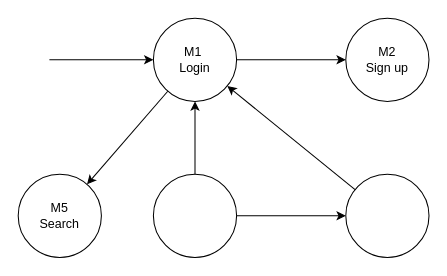
The diagram is 447 pixels wide and 276 high, and some of its shapes have lost their labels. The centre of each missing label's shape, as x and y in pixels:
"M3 Order" goes at point 387,215.
"M4 Payment" goes at point 194,215.
